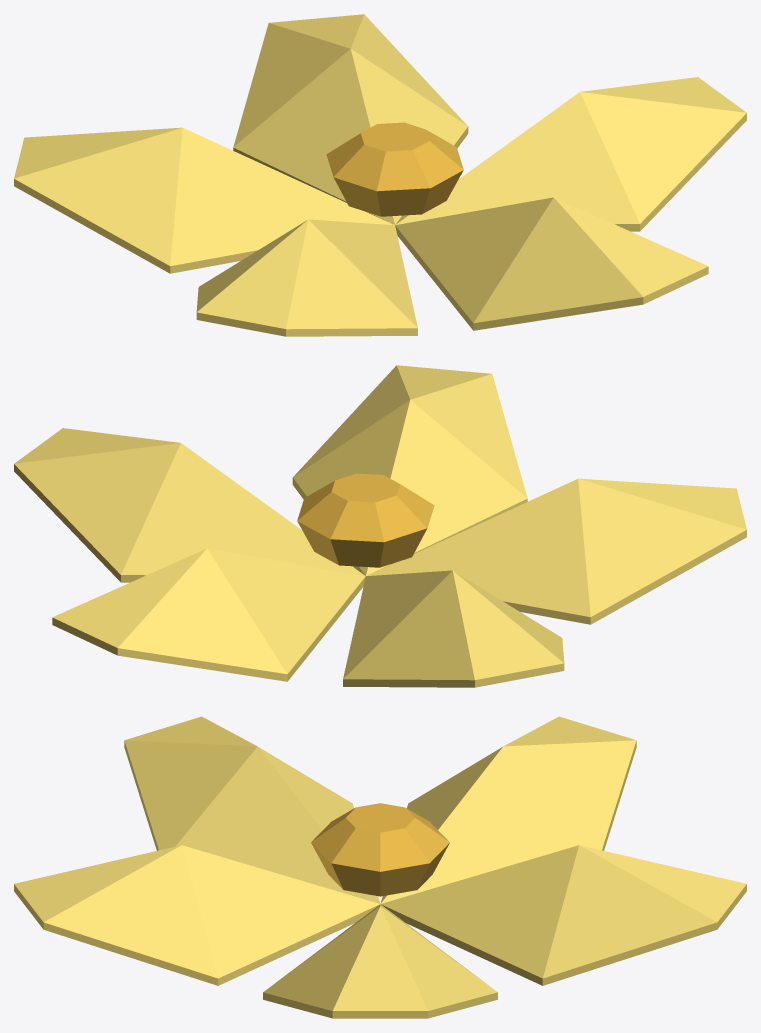
3 views of the same model, one above another, from view 1: azimuth 30°, elevation 25°; view 2: azimuth 150°, elevation 25°; view 3: azimuth 270°, elevation 25° (orthographic). The views are drawn at different scales.
Parts seen in each view (by area): view 1: 完整纸花_3.001; view 2: 完整纸花_3.001; view 3: 完整纸花_3.001.
Part boxes in pixels (x1,y1,x2,y2): 完整纸花_3.001: [14, 14, 746, 336]; 完整纸花_3.001: [14, 365, 746, 687]; 完整纸花_3.001: [14, 716, 746, 1018].
Size of the model in its own units: 0.2564 by 0.038 by 0.2696.
